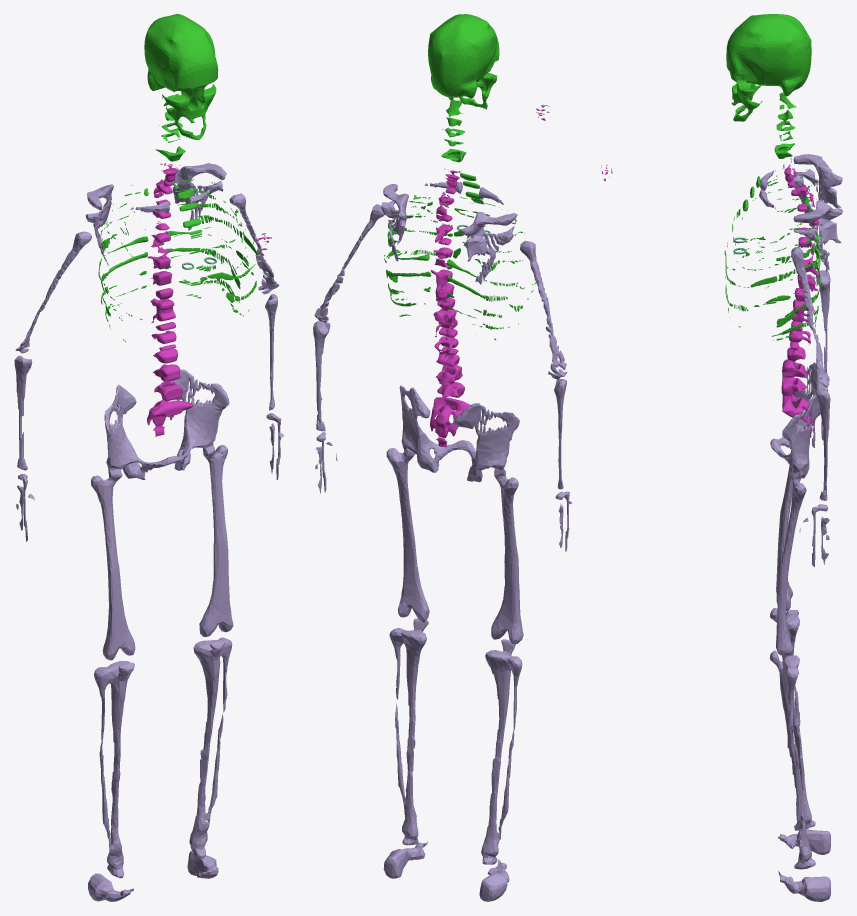
3 views of the same model, side by side, from view 1: azimuth 30°, elevation 25°; view 2: azimuth 150°, elevation 25°; view 3: azimuth 270°, elevation 25° (orthographic). The views are drawn at different scales.
Parts seen in each view (by area): view 1: world; view 2: world; view 3: world.
Boxes of the visible parts, box(x1,y1,x2,y2) form: world: box(14, 14, 284, 901); world: box(313, 14, 572, 901); world: box(601, 14, 842, 901).
Size of the model in its own units: 0.6071 by 1.97 by 0.4993.
